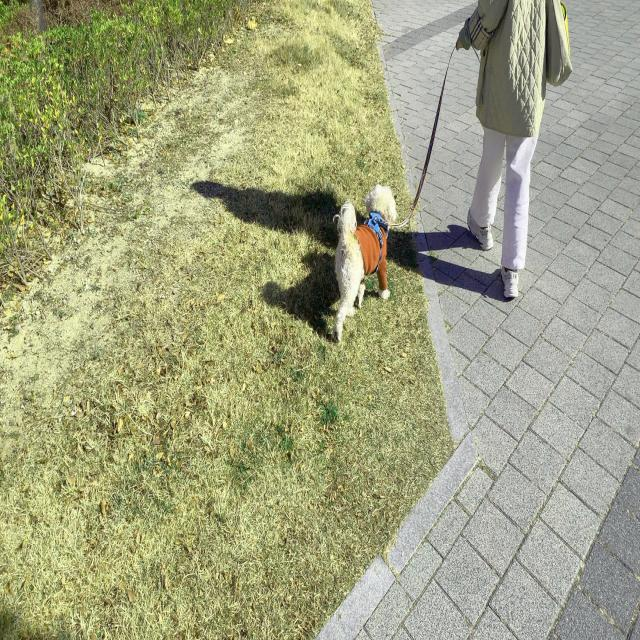Leashed_Dog: (332, 16, 498, 346)
